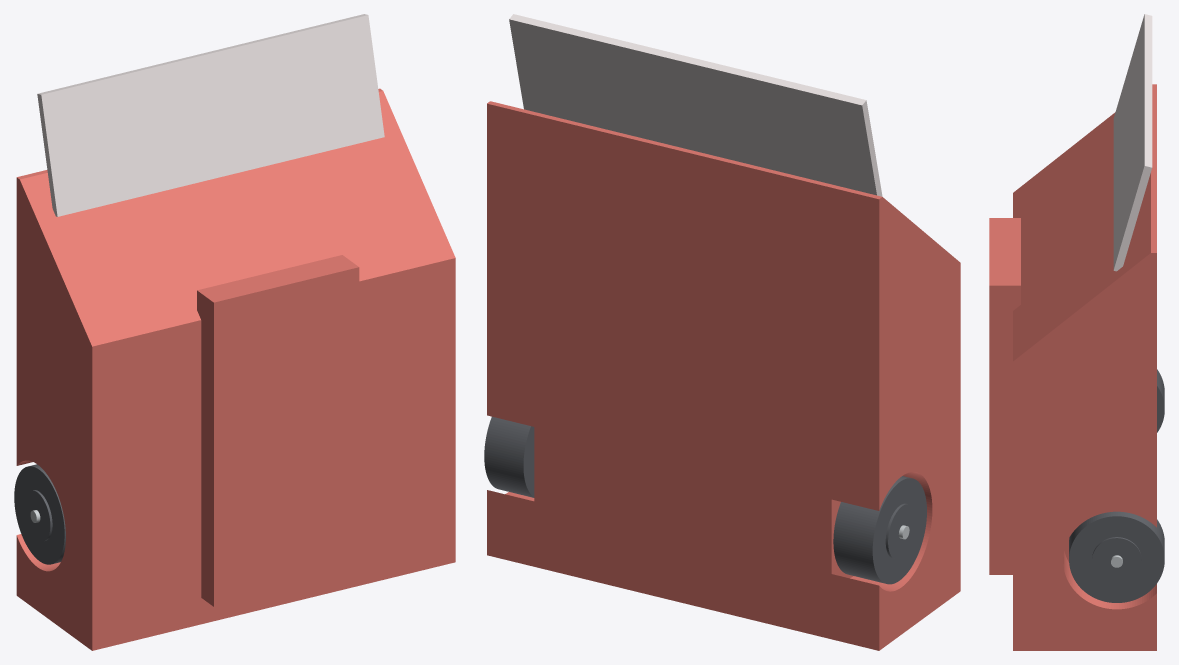
Rendered from queen_sarah_denning.glb.
The picture shows the model from 3 angles, left to right: view 1: azimuth 30°, elevation 25°; view 2: azimuth 150°, elevation 25°; view 3: azimuth 270°, elevation 25°; orthographic projection. The views are drawn at different scales.
Visible parts, largest first — view 1: chassis, flipper, scoop, wheel_r0; view 2: chassis, scoop, wheel_r0, wheel_l0; view 3: chassis, flipper, wheel_l0, scoop, wheel_r0.
Boxes of the visible parts, <box> form: chassis: <box>16,88,455,650</box>; flipper: <box>197,255,359,606</box>; scoop: <box>37,14,384,216</box>; wheel_r0: <box>14,464,65,564</box>; chassis: <box>487,101,960,650</box>; scoop: <box>509,14,882,196</box>; wheel_r0: <box>833,476,926,584</box>; wheel_l0: <box>484,416,534,497</box>; chassis: <box>1013,84,1156,650</box>; flipper: <box>989,218,1020,574</box>; wheel_l0: <box>1069,511,1164,602</box>; scoop: <box>1113,14,1152,271</box>; wheel_r0: <box>1157,369,1164,432</box>.
Bounding box in the file's own units: 102 × 132 × 44.
